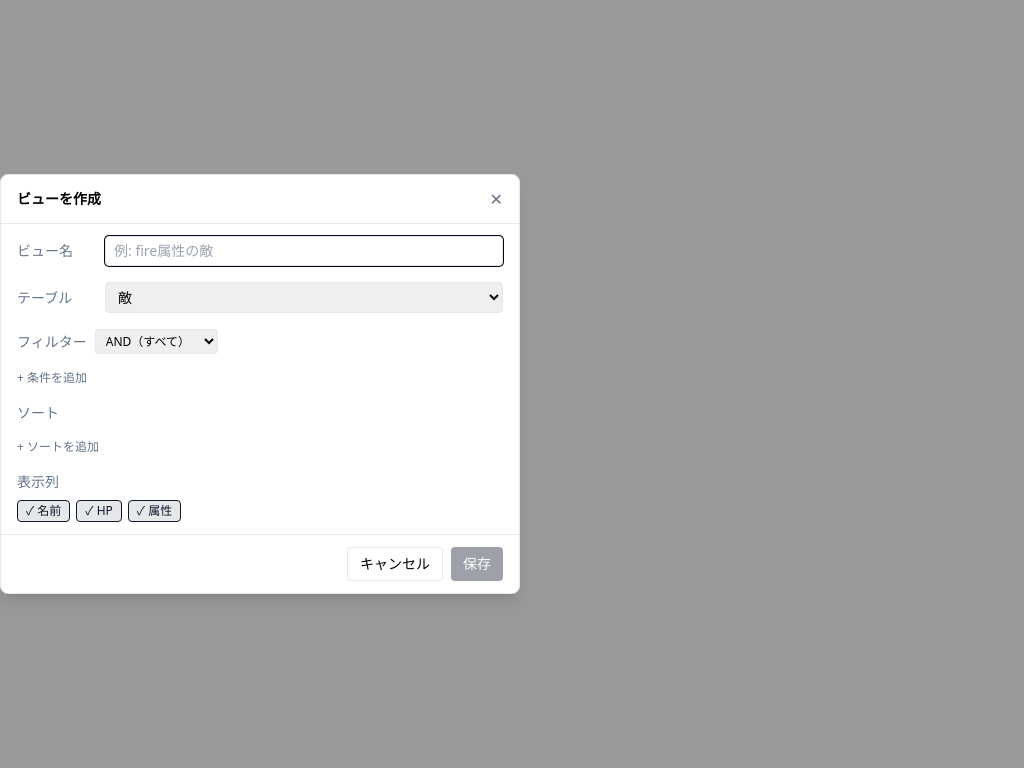
Scenario: FilterViewDialog › 条件の追加・削除 › + 条件を追加 をクリックすると条件行が増える
Expected: the field with placeholder "値" is not shown
Click the button "+ 条件を追加".
click(52, 378)  # box [17, 370, 87, 386]
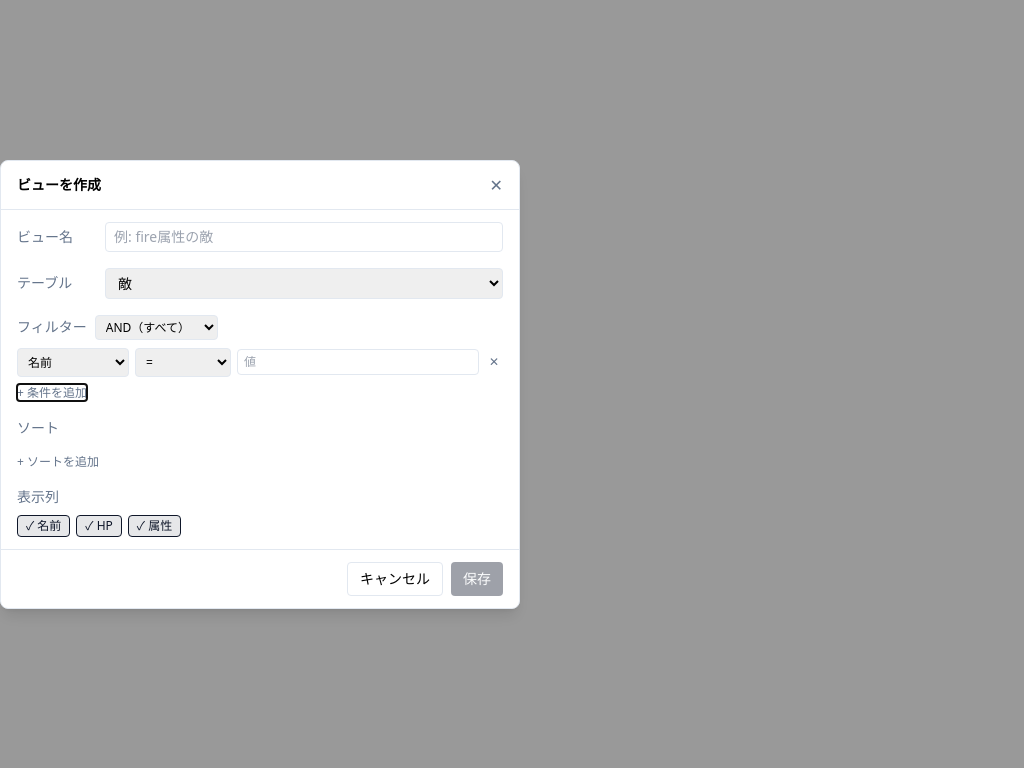
Now the field with placeholder "値" is shown, box [237, 349, 479, 375]
